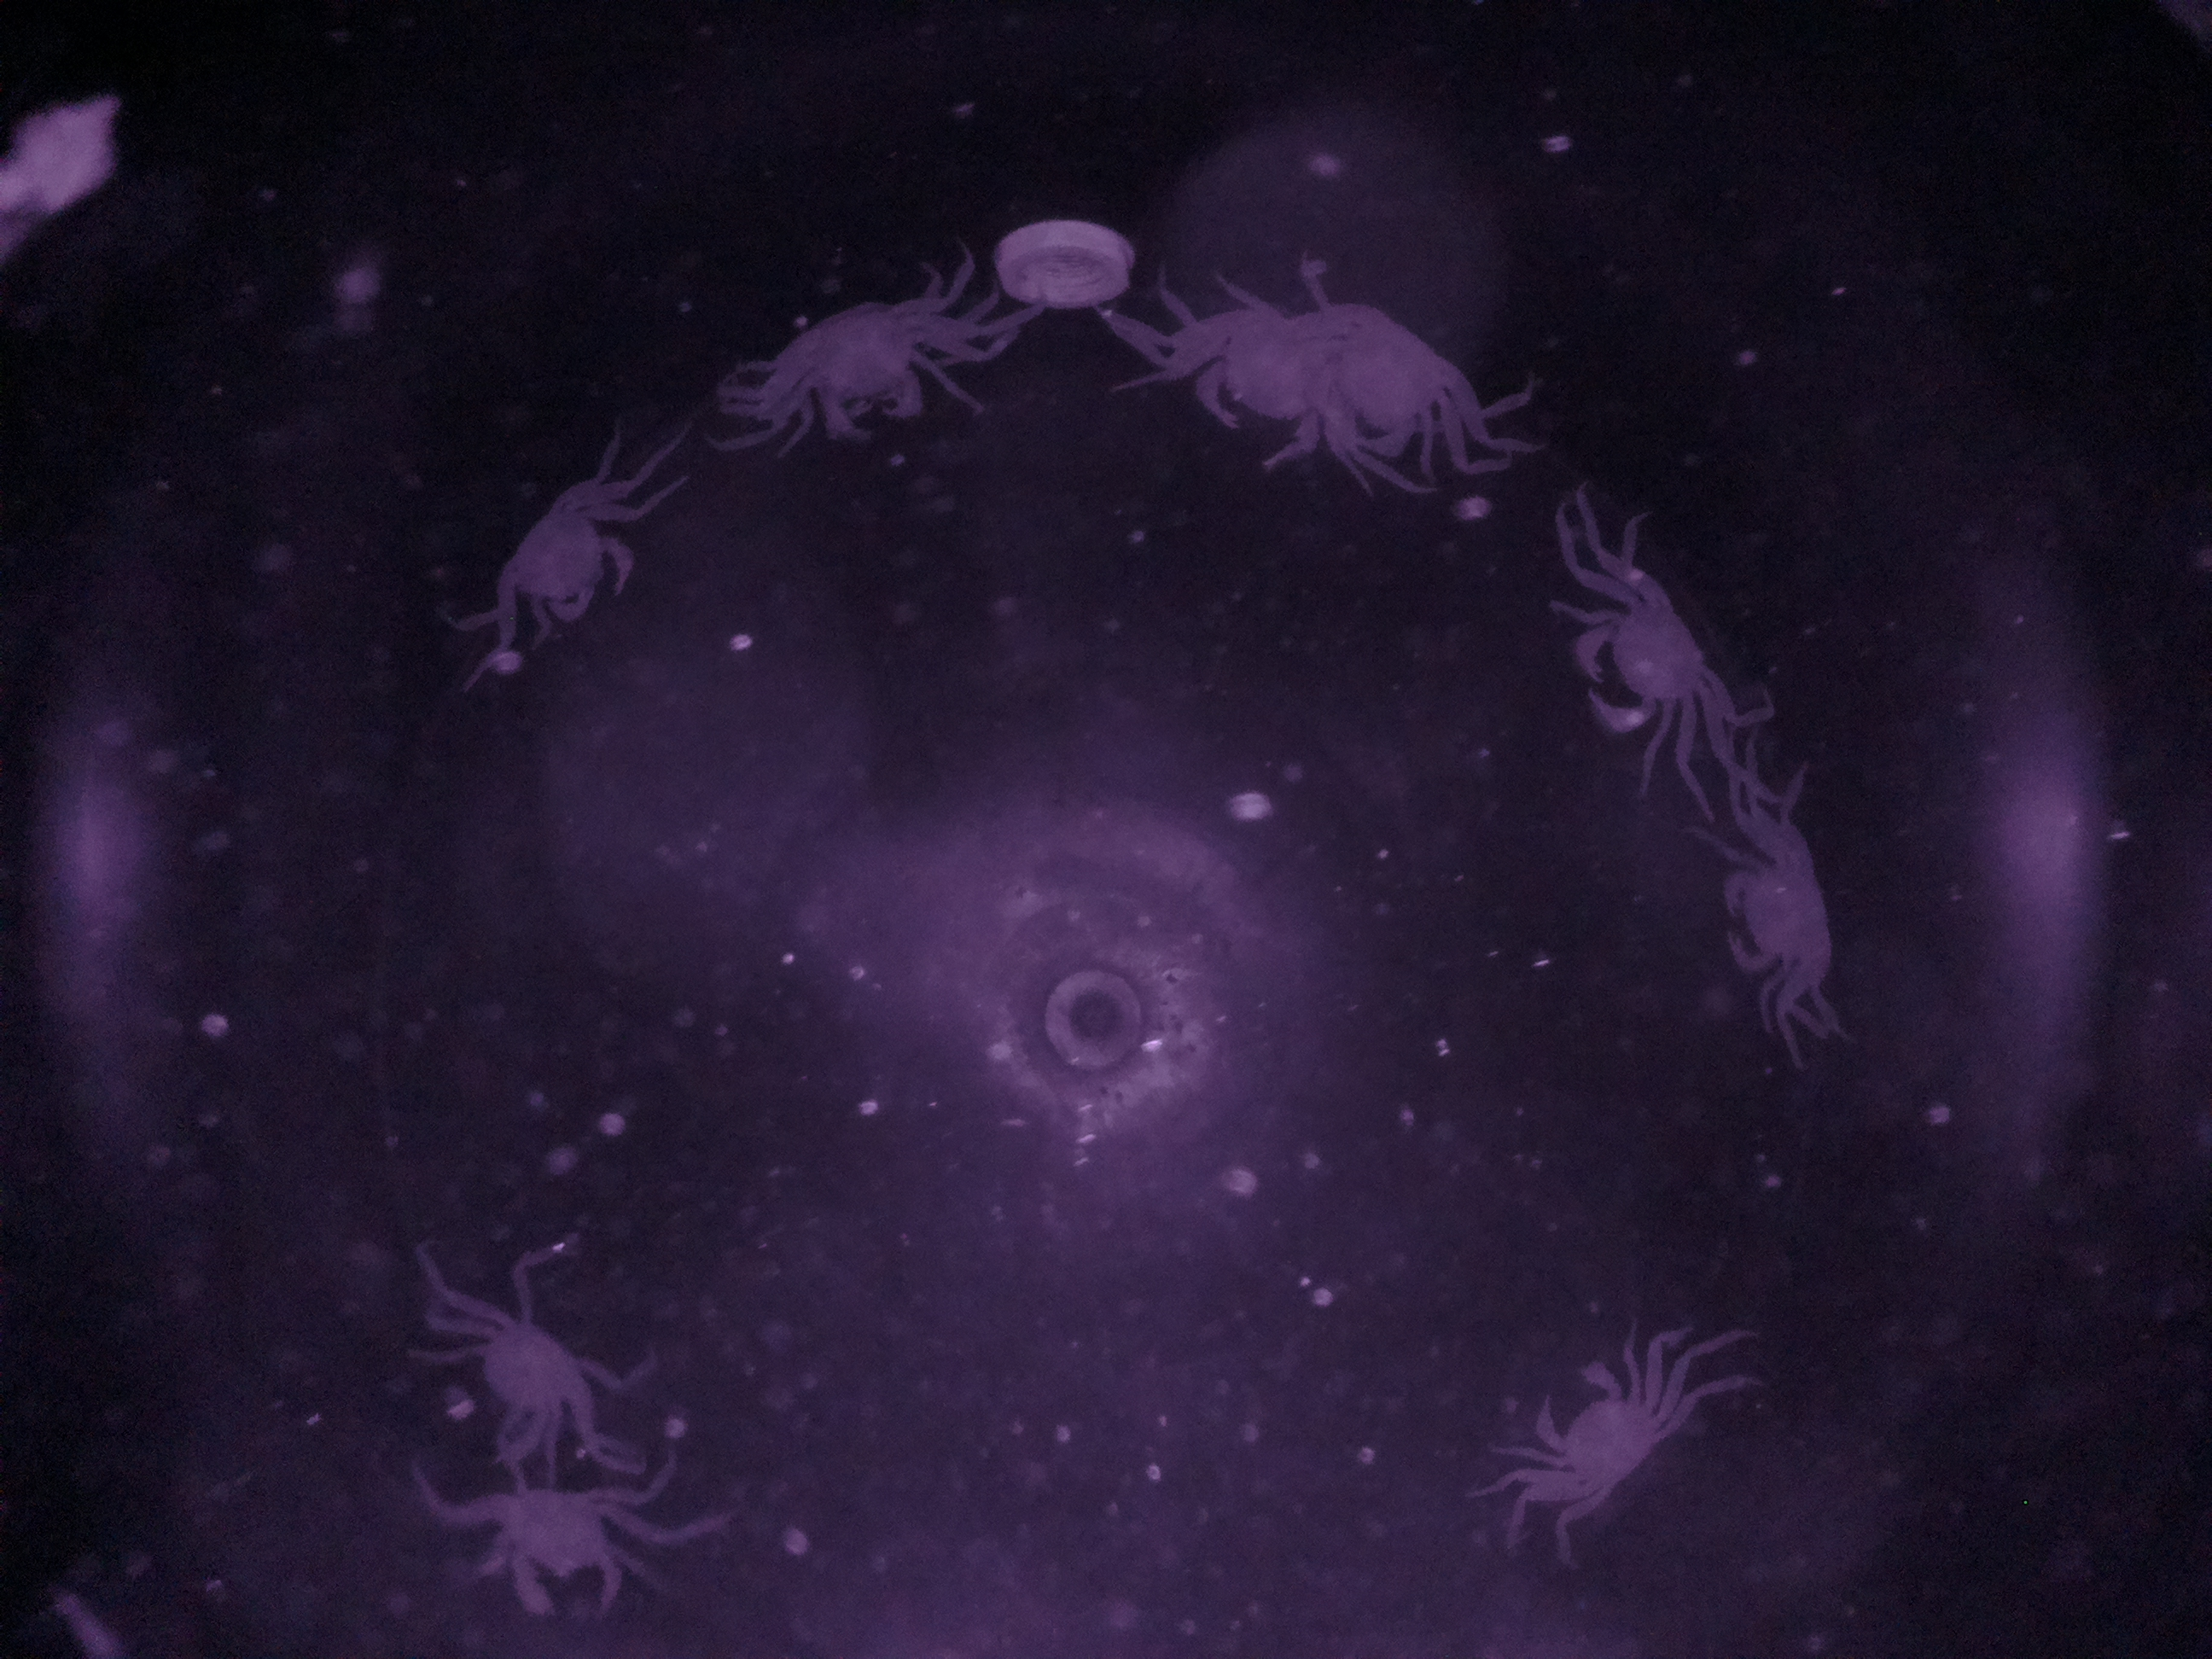Crab: (1508, 1330, 1689, 1534), (1550, 570, 1745, 758), (1689, 833, 1879, 1012), (488, 471, 644, 647)
